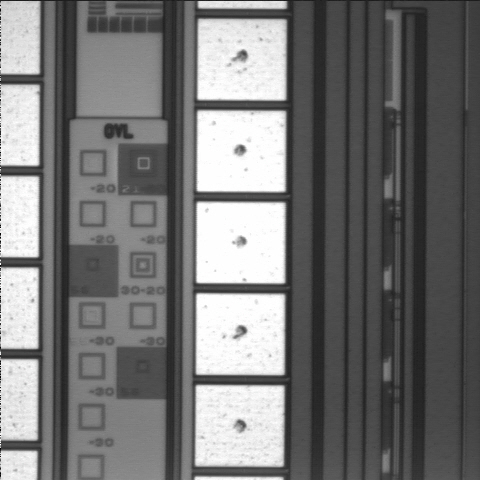pad: (197, 110, 286, 192), (196, 202, 285, 284), (196, 293, 285, 375), (195, 385, 284, 467), (197, 19, 286, 100)
